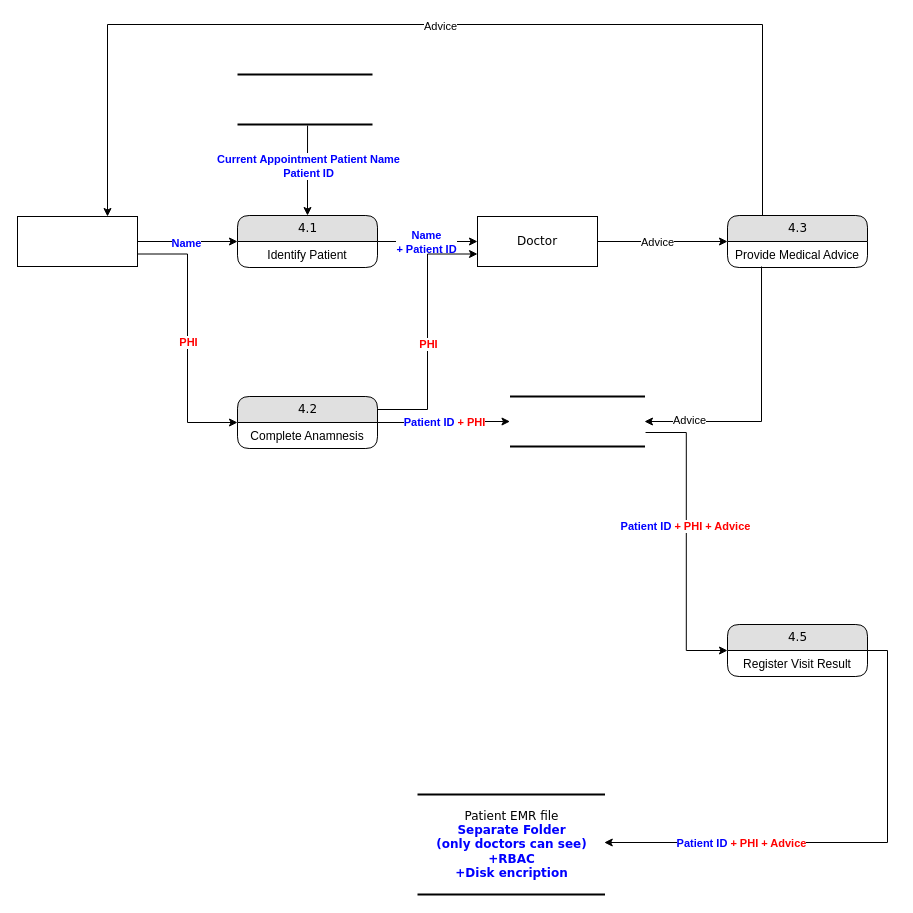
Image size: 913x913. Some labels were removed from this diagram. The centre of each missing label's shape, as x and y in pixels:
"Journal Doctor FIO X Excel file" goes at point (304, 99).
"Medical Appointment Record Excel File on doctors computer" goes at point (577, 421).
"Patient" goes at point (77, 241).
